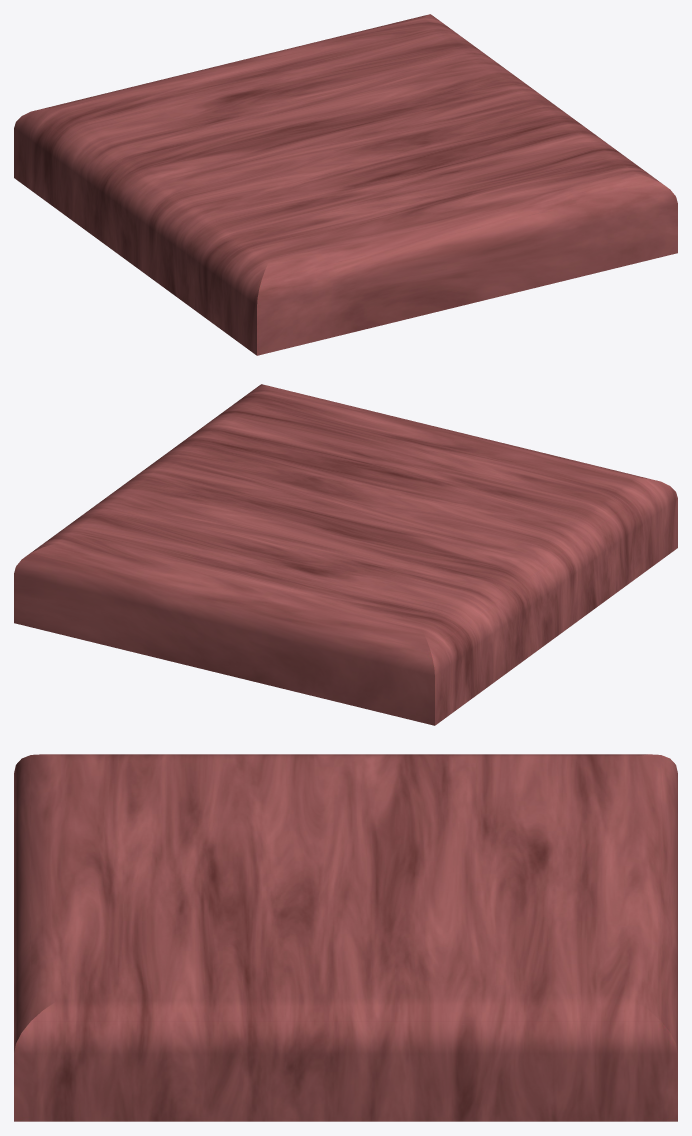
Rendered from red.gltf.
3 views of the same model, one above another, from view 1: azimuth 30°, elevation 25°; view 2: azimuth 150°, elevation 25°; view 3: azimuth 270°, elevation 25° (orthographic). The views are drawn at different scales.
Visible parts, largest first — view 1: red; view 2: red; view 3: red.
Boxes of the visible parts, x1=… form: red: x1=14, y1=14, x2=677, y2=355; red: x1=14, y1=384, x2=677, y2=725; red: x1=14, y1=754, x2=677, y2=1121.
Bounding box in the file's own units: 2.9 × 0.5 × 2.9.
Materials: 1 (1 with a texture image).
